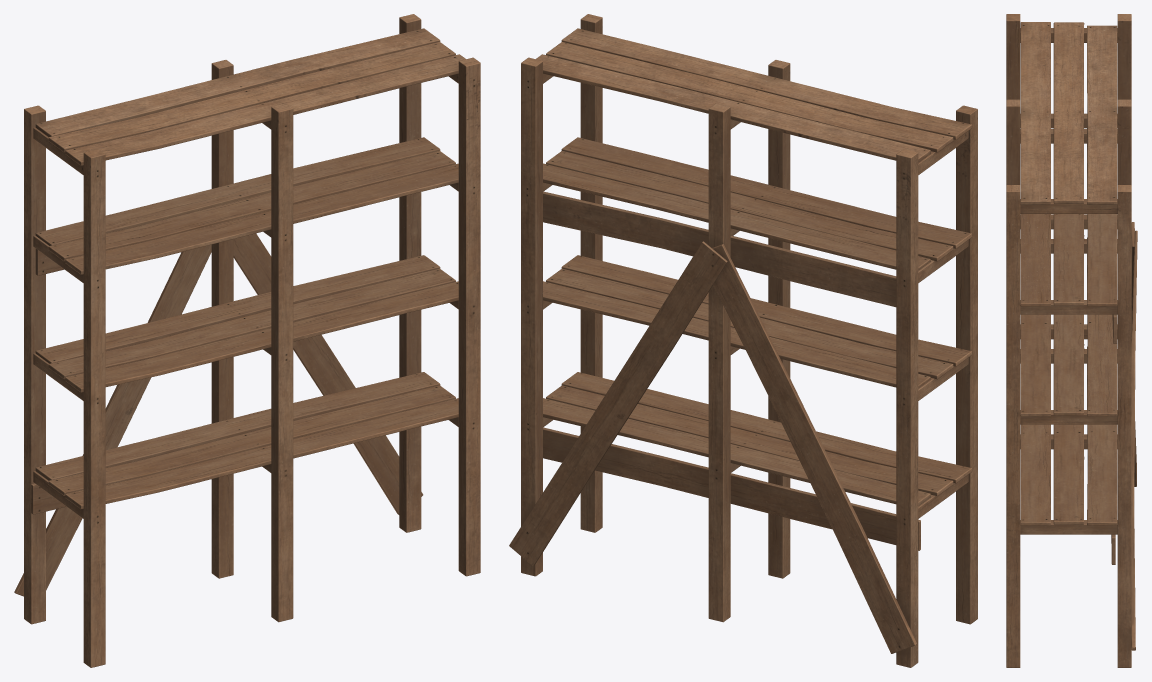
Rendered from wooden_storage_shelf.fbx.
3 renders of one model, left to right at view 1: azimuth 30°, elevation 25°; view 2: azimuth 150°, elevation 25°; view 3: azimuth 270°, elevation 25°, orthographic. The views are drawn at different scales.
Parts seen in each view (by area): view 1: wooden_storage_shelf; view 2: wooden_storage_shelf; view 3: wooden_storage_shelf.
Part boxes in pixels (<box>): wooden_storage_shelf: <box>14,14,480,667</box>; wooden_storage_shelf: <box>509,14,977,667</box>; wooden_storage_shelf: <box>1006,14,1137,667</box>.
Size of the model in its own units: 217 by 260 by 64.95.
